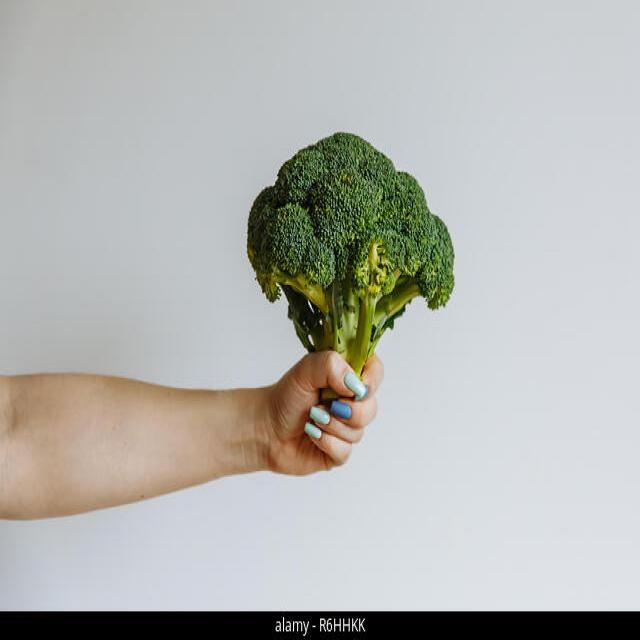broccoli: (244, 130, 457, 377)
